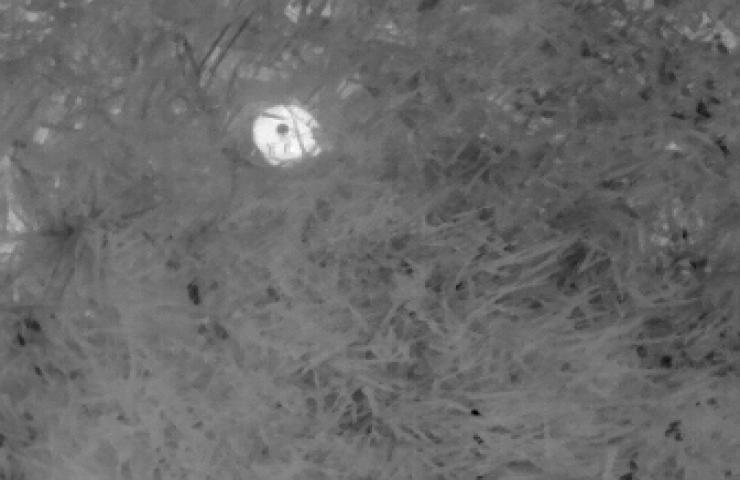landmines: (250, 98, 330, 170)
